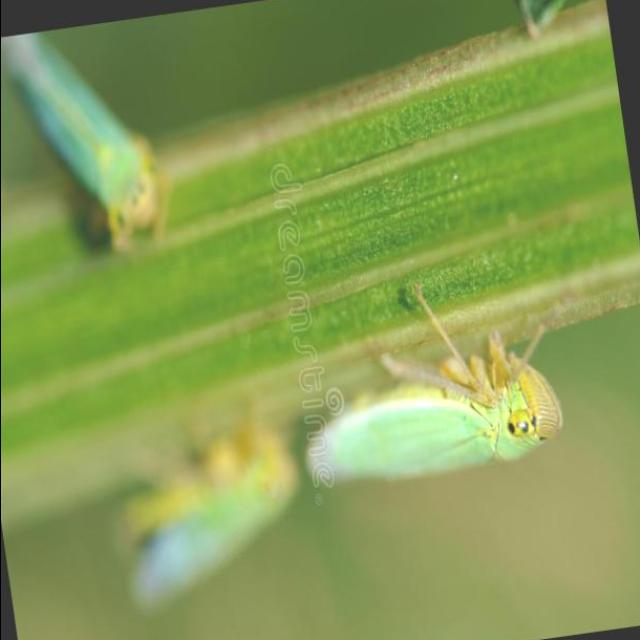green leaf hopper: (307, 292, 561, 483)
